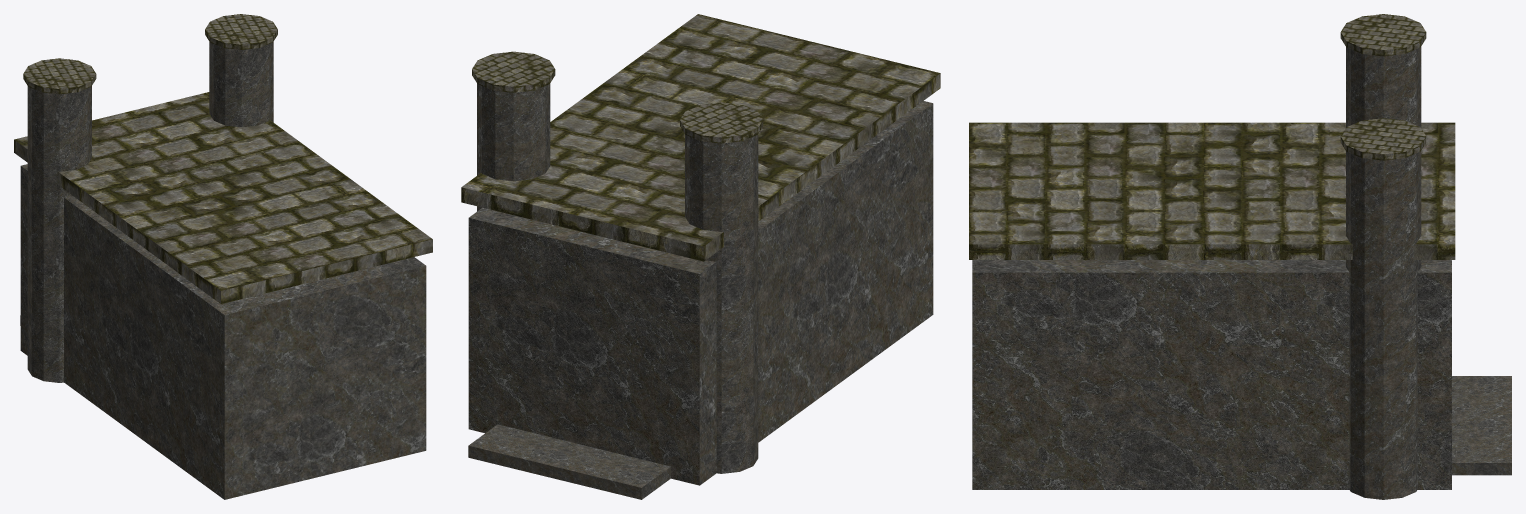
File: association.glb
3 renders of one model, left to right at view 1: azimuth 30°, elevation 25°; view 2: azimuth 150°, elevation 25°; view 3: azimuth 270°, elevation 25°, orthographic. The views are drawn at different scales.
Visible parts, largest first — view 1: association; view 2: association; view 3: association.
Boxes of the visible parts, x1,y1,x2,y2 form: association: (14,14,432,499); association: (461,14,940,499); association: (969,14,1511,499).
Size of the model in its own units: 19.4 by 22.4 by 31.7.
Materials: 2 (2 with a texture image).
